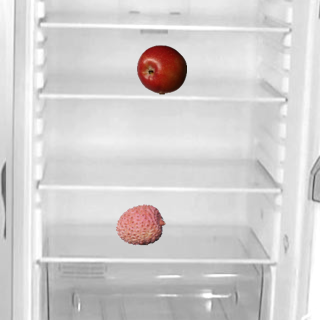Apple Braeburn: (136, 44, 186, 94)
Lychee: (115, 199, 165, 249)
